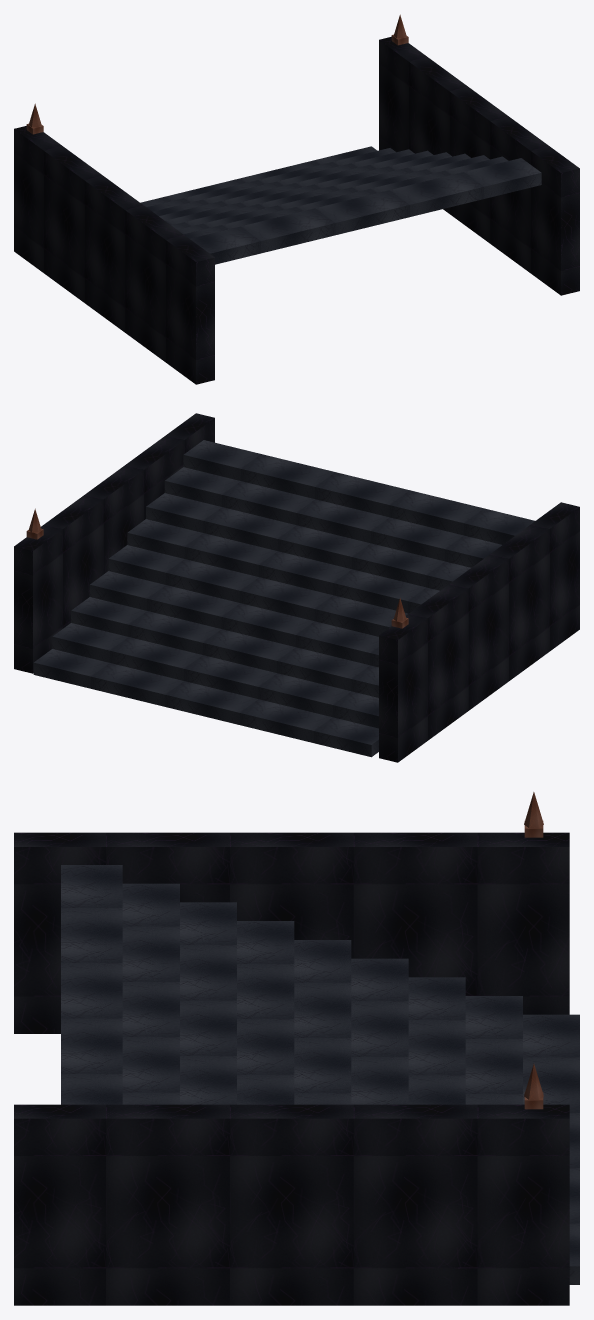
Rendered from blackstone-stair.glb.
The picture shows the model from 3 angles, top to bottom: view 1: azimuth 30°, elevation 25°; view 2: azimuth 150°, elevation 25°; view 3: azimuth 270°, elevation 25°; orthographic projection. The views are drawn at different scales.
Parts seen in each view (by area): view 1: Stair_Cheek_-1, Stair_Cheek_1, Stair_Step_9, Stair_Step_8, Stair_Step_7, Stair_Step_6, Stair_Step_5, Stair_Step_4, Stair_Step_3, Stair_Step_2, Stair_Step_1; view 2: Stair_Cheek_-1, Stair_Cheek_1, Stair_Step_9, Stair_Step_1, Stair_Step_2, Stair_Step_8, Stair_Step_7, Stair_Step_3, Stair_Step_6, Stair_Step_4, Stair_Step_5; view 3: Stair_Cheek_1, Stair_Cheek_-1, Stair_Step_9, Stair_Step_8, Stair_Step_7, Stair_Step_6, Stair_Step_5, Stair_Step_4, Stair_Step_3, Stair_Step_1, Stair_Step_2.
Part boxes in pixels (left/top/right/bottom): Stair_Cheek_-1: left=14, top=126, right=214, bottom=384; Stair_Cheek_1: left=379, top=36, right=579, bottom=295; Stair_Step_9: left=190, top=158, right=541, bottom=264; Stair_Step_8: left=184, top=156, right=508, bottom=238; Stair_Step_7: left=177, top=155, right=489, bottom=234; Stair_Step_6: left=171, top=153, right=470, bottom=229; Stair_Step_5: left=165, top=152, right=451, bottom=225; Stair_Step_4: left=159, top=150, right=433, bottom=220; Stair_Step_3: left=153, top=149, right=414, bottom=215; Stair_Step_2: left=146, top=148, right=395, bottom=211; Stair_Step_1: left=140, top=146, right=377, bottom=206; Stair_Cheek_-1: left=379, top=502, right=579, bottom=762; Stair_Cheek_1: left=14, top=413, right=214, bottom=673; Stair_Step_9: left=183, top=440, right=534, bottom=544; Stair_Step_1: left=33, top=649, right=378, bottom=757; Stair_Step_2: left=52, top=623, right=378, bottom=728; Stair_Step_8: left=164, top=467, right=501, bottom=567; Stair_Step_7: left=146, top=493, right=470, bottom=590; Stair_Step_3: left=71, top=597, right=378, bottom=697; Stair_Step_6: left=127, top=519, right=439, bottom=613; Stair_Step_4: left=89, top=571, right=378, bottom=667; Stair_Step_5: left=108, top=545, right=408, bottom=636; Stair_Cheek_1: left=14, top=1104, right=569, bottom=1305; Stair_Cheek_-1: left=14, top=832, right=569, bottom=1033; Stair_Step_9: left=61, top=865, right=122, bottom=1104; Stair_Step_8: left=122, top=883, right=179, bottom=1104; Stair_Step_7: left=180, top=902, right=236, bottom=1104; Stair_Step_6: left=237, top=921, right=294, bottom=1104; Stair_Step_5: left=294, top=940, right=351, bottom=1104; Stair_Step_4: left=351, top=958, right=408, bottom=1104; Stair_Step_3: left=408, top=977, right=465, bottom=1104; Stair_Step_1: left=523, top=1014, right=579, bottom=1284; Stair_Step_2: left=465, top=996, right=522, bottom=1104.
Bounding box in the file's own units: 8.52 × 3.27 × 7.13.
Materials: 3 (3 with a texture image).
